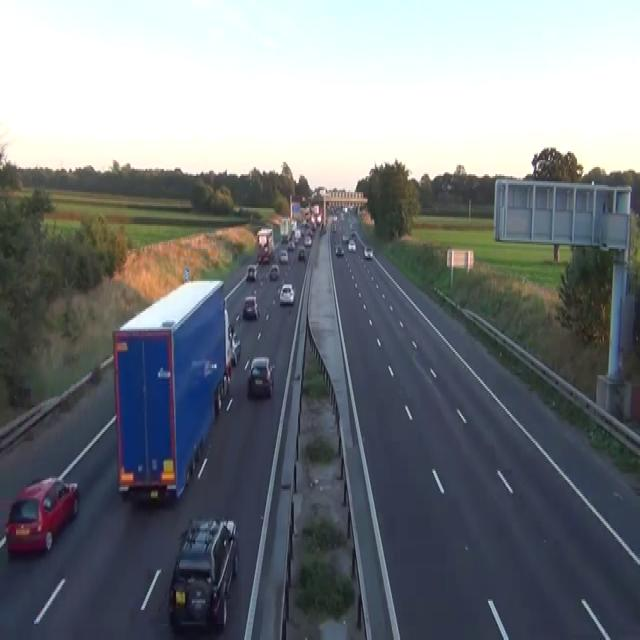Car: (168, 516, 239, 631), (5, 474, 79, 554), (247, 356, 274, 398), (9, 384, 31, 405), (229, 329, 241, 366), (242, 295, 259, 320), (279, 282, 294, 306), (246, 263, 257, 281), (269, 263, 279, 279), (363, 244, 373, 258), (258, 251, 269, 263), (279, 249, 288, 263), (297, 246, 305, 260), (335, 245, 344, 256), (347, 240, 356, 251), (320, 222, 327, 235), (287, 240, 295, 251), (304, 235, 312, 245), (294, 229, 300, 242), (341, 233, 349, 242), (280, 234, 288, 243), (317, 213, 322, 224), (331, 221, 336, 231), (350, 230, 357, 237), (343, 206, 348, 214), (349, 222, 354, 230), (339, 212, 344, 220)
Truck: (112, 278, 231, 502), (256, 228, 274, 263), (280, 218, 290, 242)
